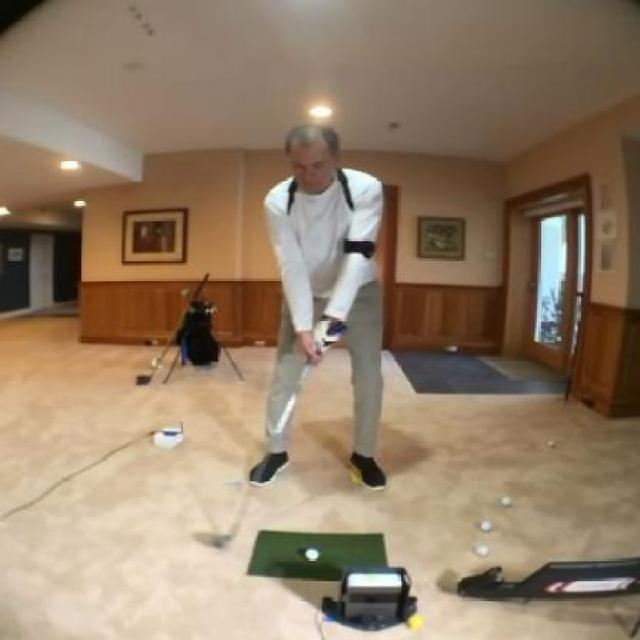club head: (211, 525, 243, 552)
